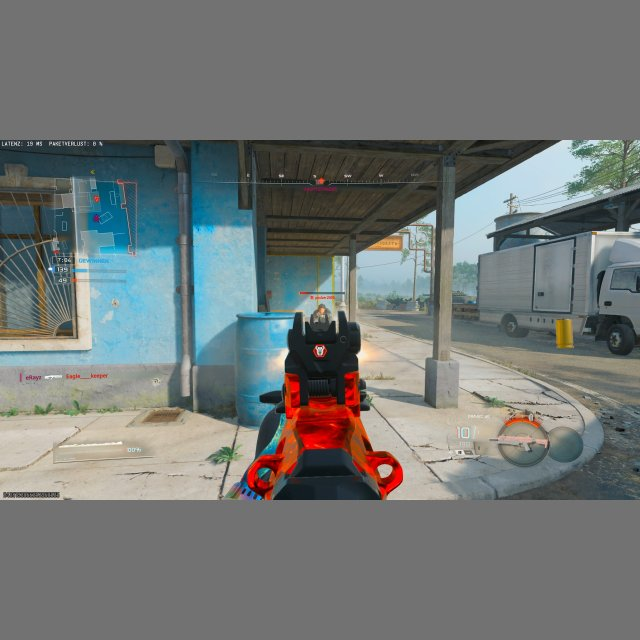player: (309, 303, 331, 323)
